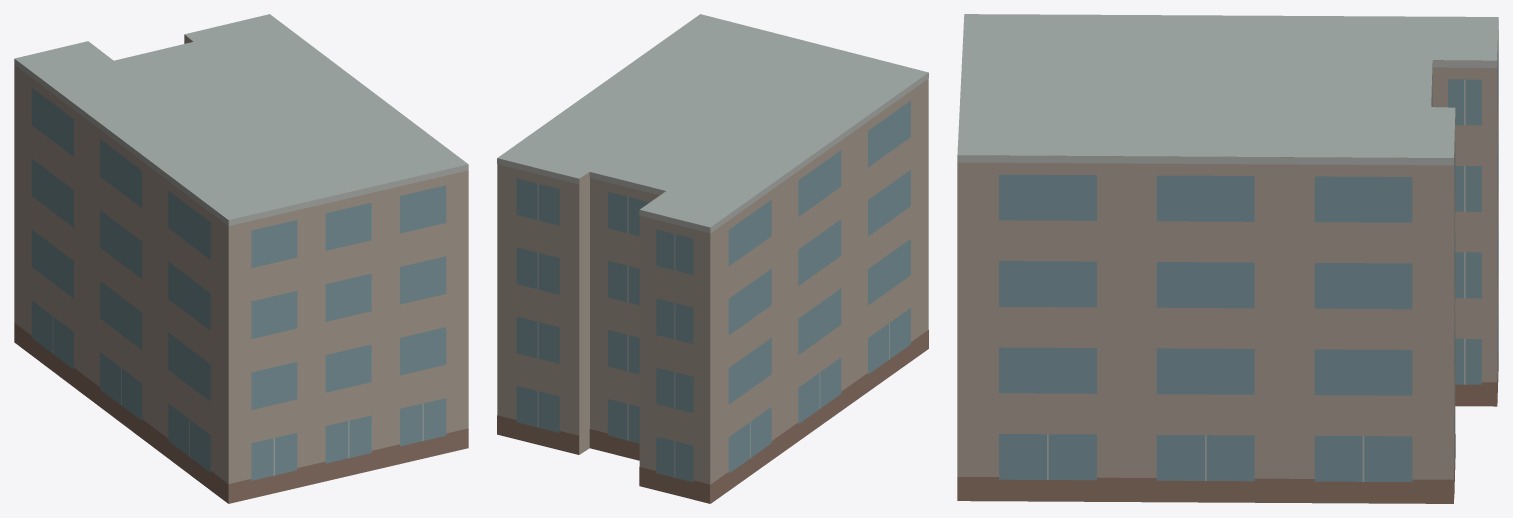
Rendered from survey-upis-32618355.glb.
3 views of the same model, side by side, from view 1: azimuth 30°, elevation 25°; view 2: azimuth 150°, elevation 25°; view 3: azimuth 270°, elevation 25° (orthographic). The views are drawn at different scales.
Parts seen in each view (by area): view 1: survey-upis-32618355.tmp; view 2: survey-upis-32618355.tmp; view 3: survey-upis-32618355.tmp.
Part boxes in pixels (x1,y1,x2,y2): survey-upis-32618355.tmp: (14, 14, 468, 503); survey-upis-32618355.tmp: (497, 14, 928, 503); survey-upis-32618355.tmp: (957, 14, 1498, 503).
Bounding box in the file's own units: 10.28 × 11.5 × 16.32.
